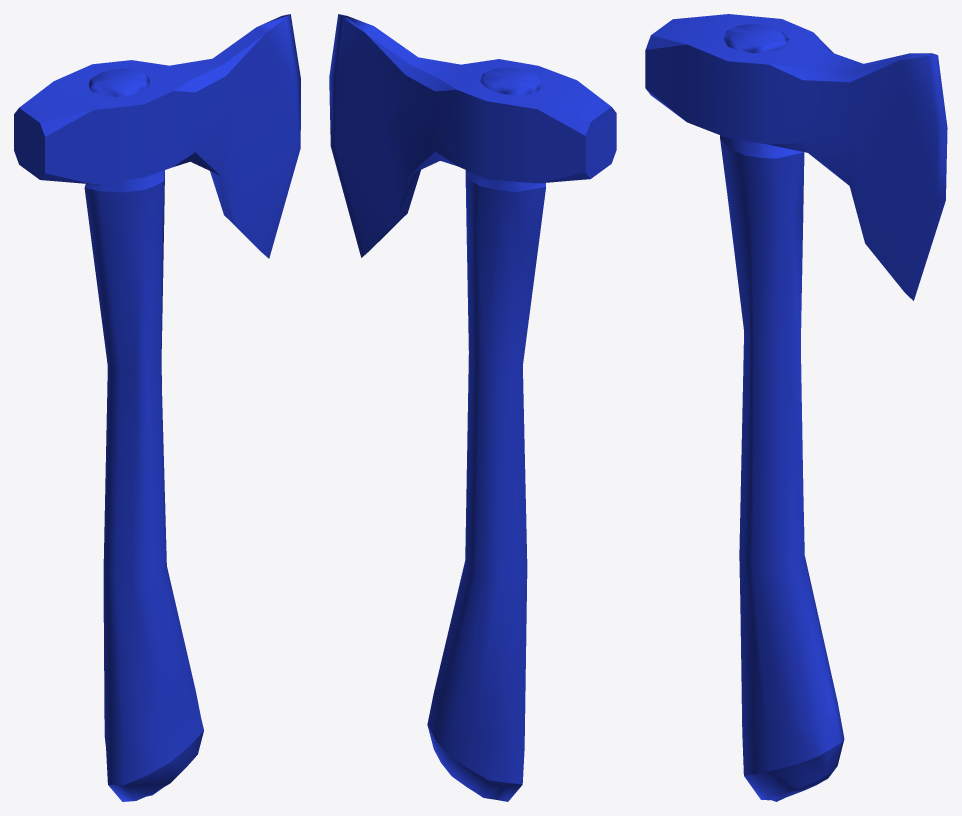
File: axeLP.fbx
The picture shows the model from 3 angles, left to right: view 1: azimuth 30°, elevation 25°; view 2: azimuth 150°, elevation 25°; view 3: azimuth 330°, elevation 25°; orthographic projection. The views are drawn at different scales.
Visible parts, largest first — view 1: axe_low; view 2: axe_low; view 3: axe_low.
Boxes of the visible parts, bbox=[...] form: axe_low: bbox=[14, 14, 300, 801]; axe_low: bbox=[329, 14, 616, 801]; axe_low: bbox=[645, 14, 947, 801].
Bounding box in the file's own units: 27.36 × 71.91 × 9.01.
